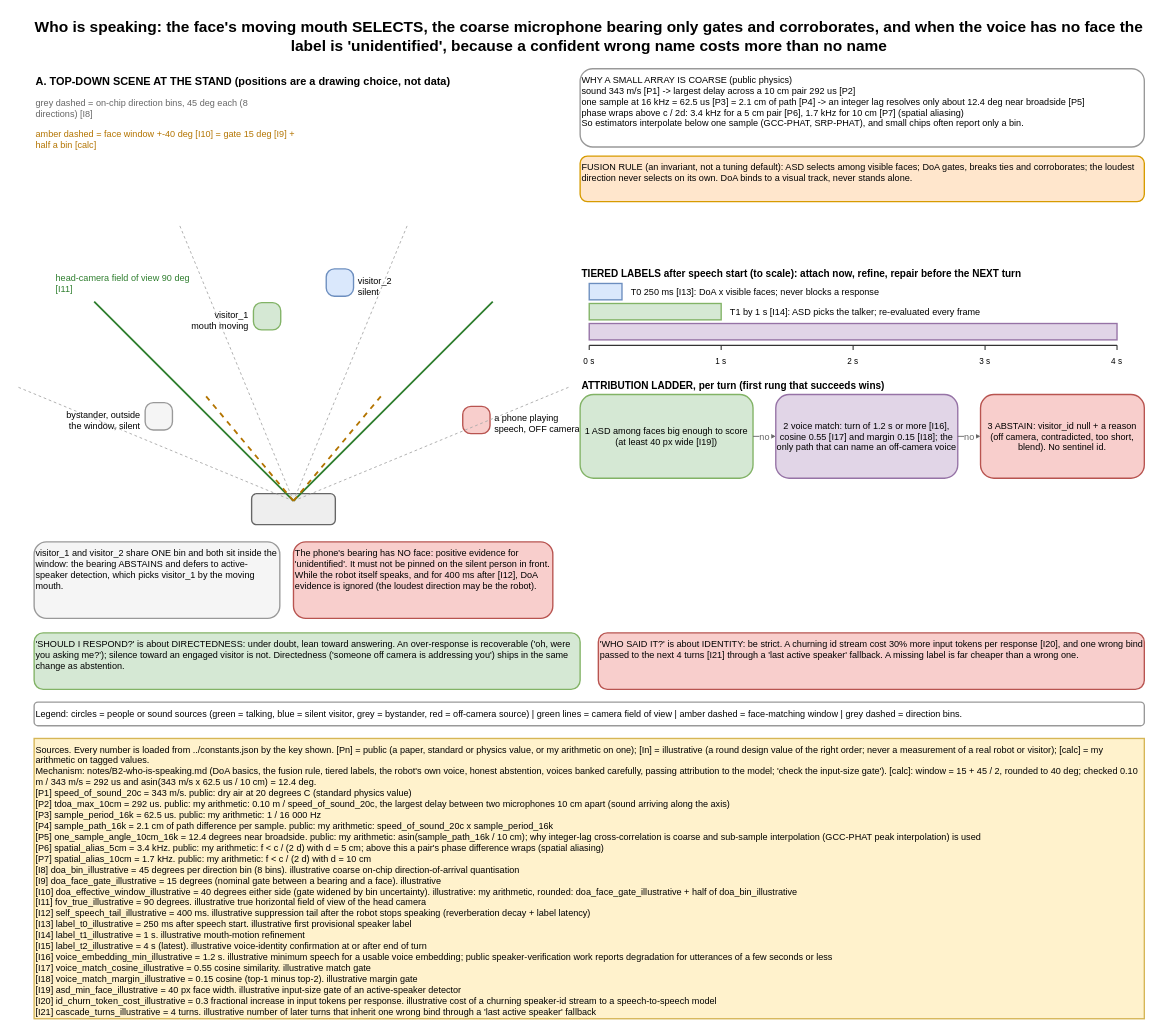
This 1169x1035 diagram has some shape labels left out. The shapes that lost their labels are listed below. From the top down, each one's centre as x and y in pixels, then its label:
[852,331]: T2 up to 4 s [I15]: voice and face embeddings confirm or repair
[293,509]: ROBOT mic array
